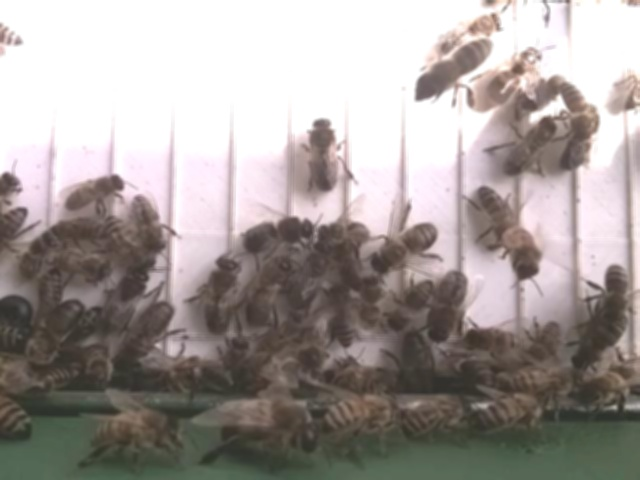Drone: (114, 298, 176, 367), (367, 220, 443, 276), (244, 252, 296, 331), (98, 264, 152, 340), (485, 43, 545, 109), (502, 111, 559, 177), (425, 267, 472, 343), (201, 253, 240, 339), (306, 112, 342, 193), (242, 214, 314, 254)
Worker: (383, 276, 434, 333), (474, 182, 518, 242), (556, 75, 597, 136), (63, 170, 128, 208), (463, 321, 526, 360), (132, 191, 170, 255), (330, 282, 358, 352), (602, 260, 633, 317)
